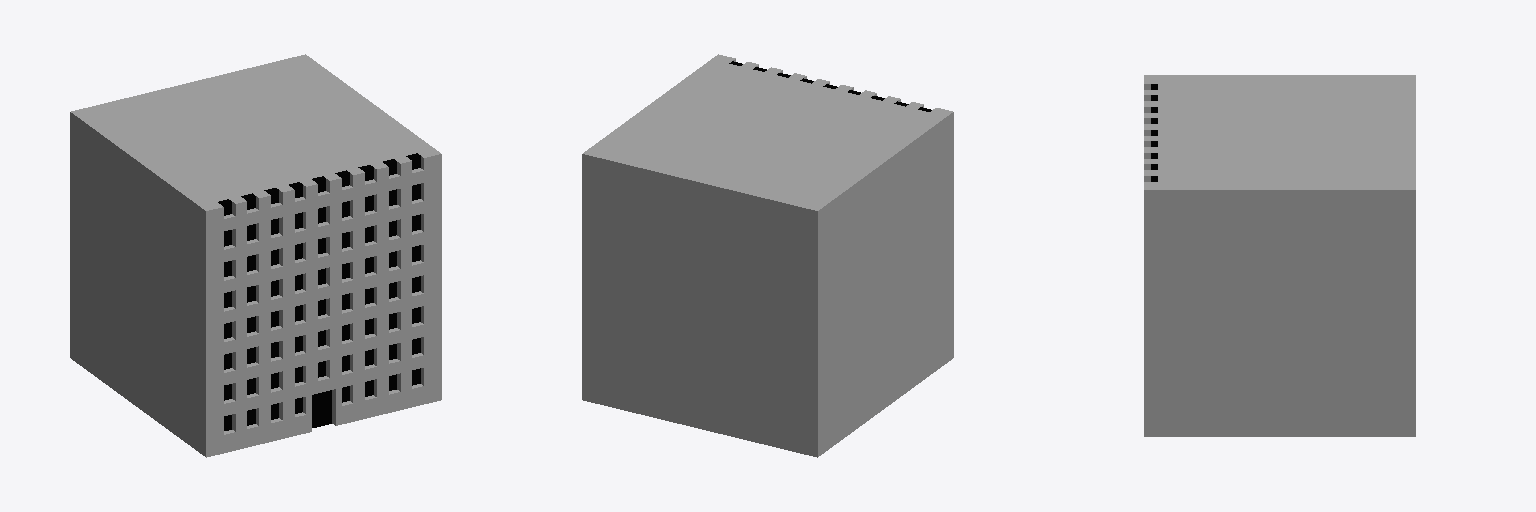
3 renders of one model, left to right at view 1: azimuth 30°, elevation 25°; view 2: azimuth 150°, elevation 25°; view 3: azimuth 270°, elevation 25°, orthographic.
Parts seen in each view (by area): view 1: object 1; view 2: object 1; view 3: object 1.
Part boxes in pixels (x1,y1,x2,y2): object 1: (70,54,441,457); object 1: (582,54,953,457); object 1: (1144,75,1415,436).
Bounding box in the file's own units: 4 × 4 × 4.
Materials: 1 (1 with a texture image).